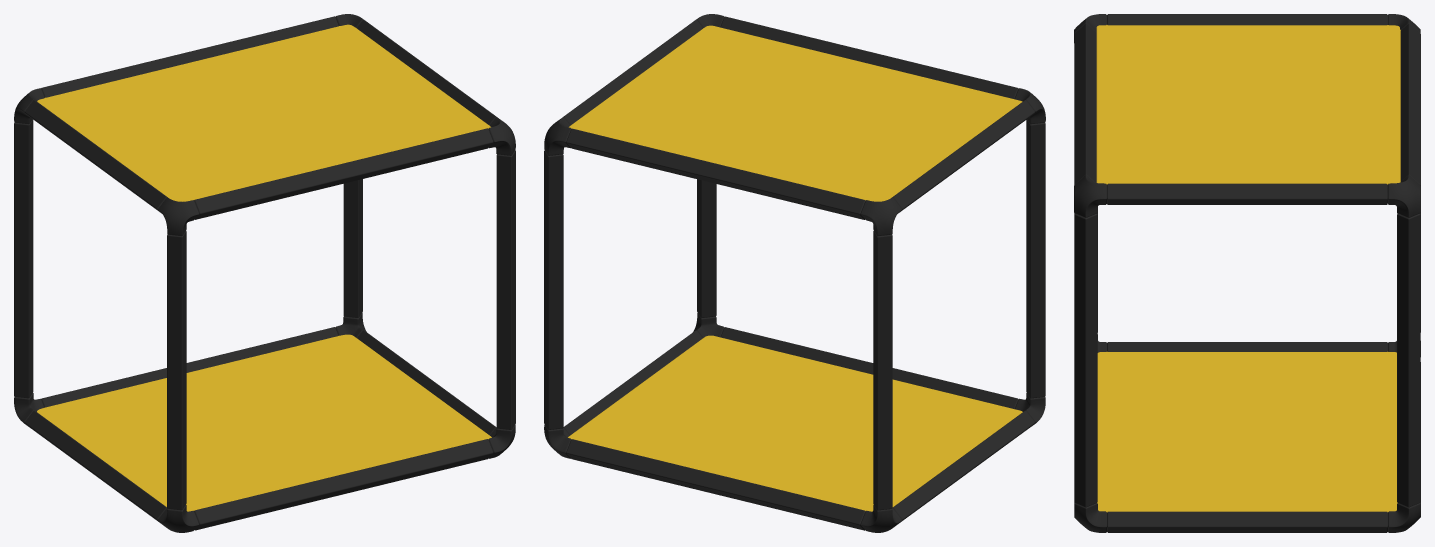
3 views of the same model, side by side, from view 1: azimuth 30°, elevation 25°; view 2: azimuth 150°, elevation 25°; view 3: azimuth 270°, elevation 25° (orthographic). The views are drawn at different scales.
Parts seen in each view (by area): view 1: 420x329x374; view 2: 420x329x374; view 3: 420x329x374.
Part boxes in pixels (x1,y1,x2,y2): 420x329x374: [14, 14, 515, 532]; 420x329x374: [544, 14, 1045, 532]; 420x329x374: [1074, 14, 1420, 532].
Size of the model in its own units: 0.4977 by 0.4516 by 0.4063.
